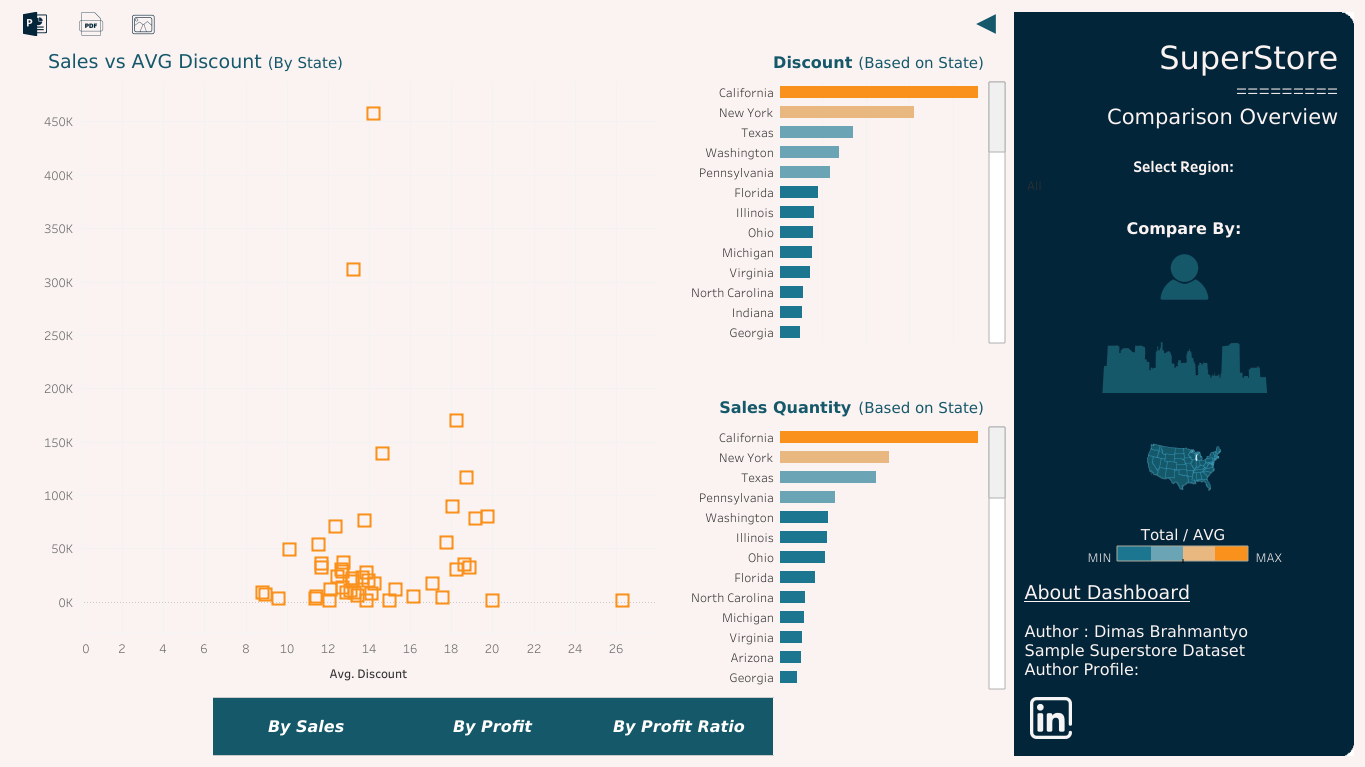

This screenshot's page, from the dashboard's own definition file:
{"tool":"tableau","page":{"name":"Dashboard 2 - Comparison Overview (By State)","canvas":[1366,768],"ordinal":3},"visuals":[{"type":"dashboard-object","box":[8,8,54,32]},{"type":"dashboard-object","box":[62,8,60,32]},{"type":"dashboard-object","box":[122,8,44,32]},{"type":"worksheet","title":"Go Back","mark":"Shape","rows":["Calculation_132293265483010062"],"box":[962,8,48,32]},{"type":"image","param":"Image/2.png","box":[1010,8,348,752]},{"type":"text","box":[1025,21,316,125]},{"type":"worksheet","title":"Sheet 8 (3)","mark":"Shape","rows":["Calculation_132293265338007554"],"cols":["Calculation_1180506078092304394"],"box":[40,40,620,653]},{"type":"worksheet","title":"Based on State","mark":"Automatic","rows":["State"],"box":[683,40,327,307]},{"type":"blank","box":[1025,154,317,44]},{"type":"setMembership","title":"Sheet 8 (3)","param":"[federated.1u37z9d020ffhv1e04nla11qurtp].[a1. Select Region Set]","box":[1025,154,317,44]},{"type":"text","box":[1027,213,314,30]},{"type":"dashboard-object","box":[1028,251,313,52]},{"type":"dashboard-object","box":[1029,341,311,52]},{"type":"worksheet","title":"Quantity Based on State","mark":"Automatic","rows":["State"],"cols":["Quantity"],"box":[683,385,327,308]},{"type":"dashboard-object","box":[1027,440,314,52]},{"type":"legend","title":"Based on State","param":"[federated.1u37z9d020ffhv1e04nla11qurtp].[usr:Calculation_132293265338007554:qk]","box":[1113,522,140,43]},{"type":"text","box":[1085,546,29,21]},{"type":"text","box":[1253,546,37,22]},{"type":"text","box":[1022,577,272,106]},{"type":"worksheet","title":"LinkedIn","mark":"Shape","rows":["Calculation_1125055507973922816"],"box":[1022,691,57,53]},{"type":"worksheet","title":"Field Button (Dashboard 2)","mark":"Shape","box":[209,693,569,67]}]}

Visuals, with their boxes in screenshot pixels (x1, y1, x2, y2), scaled from the page's 1366x768 canvas onto the 1365x767 screenshot:
dashboard-object: bbox=(8, 8, 62, 40)
dashboard-object: bbox=(62, 8, 122, 40)
dashboard-object: bbox=(122, 8, 166, 40)
"Go Back" worksheet (Shape marks): bbox=(961, 8, 1009, 40)
image: bbox=(1009, 8, 1357, 759)
text: bbox=(1024, 21, 1340, 146)
"Sheet 8 (3)" worksheet (Shape marks): bbox=(40, 40, 660, 692)
"Based on State" worksheet: bbox=(682, 40, 1009, 347)
blank: bbox=(1024, 154, 1341, 198)
"Sheet 8 (3)" setMembership: bbox=(1024, 154, 1341, 198)
text: bbox=(1026, 213, 1340, 243)
dashboard-object: bbox=(1027, 251, 1340, 303)
dashboard-object: bbox=(1028, 341, 1339, 392)
"Quantity Based on State" worksheet: bbox=(682, 384, 1009, 692)
dashboard-object: bbox=(1026, 439, 1340, 491)
"Based on State" legend: bbox=(1112, 521, 1252, 564)
text: bbox=(1084, 545, 1113, 566)
text: bbox=(1252, 545, 1289, 567)
text: bbox=(1021, 576, 1293, 682)
"LinkedIn" worksheet (Shape marks): bbox=(1021, 690, 1078, 743)
"Field Button (Dashboard 2)" worksheet (Shape marks): bbox=(209, 692, 777, 759)
